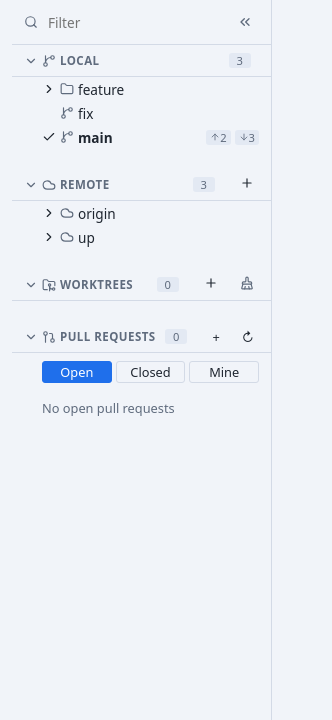
Scenario: Sidebar › collapse button closes the sidebar and the rail replaces the sections
Click the button named "Collapse sidebar".
click(245, 22)  # box [231,8,259,36]
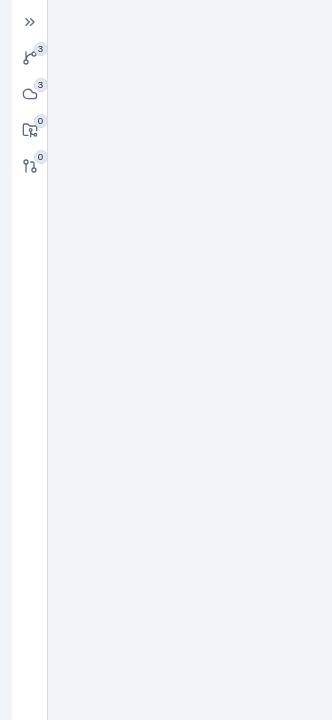
Now the button "Local" is gone
Now the navigation bar named "Sidebar (collapsed)" is shown, box [12,0,48,719]
